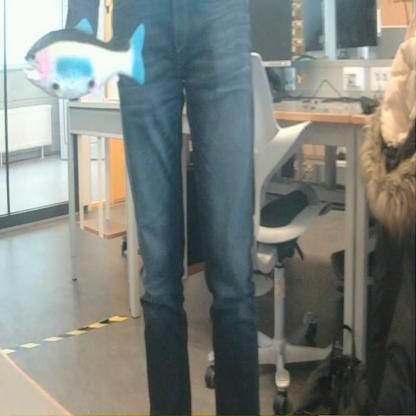rubberfish: (21, 15, 149, 103)
